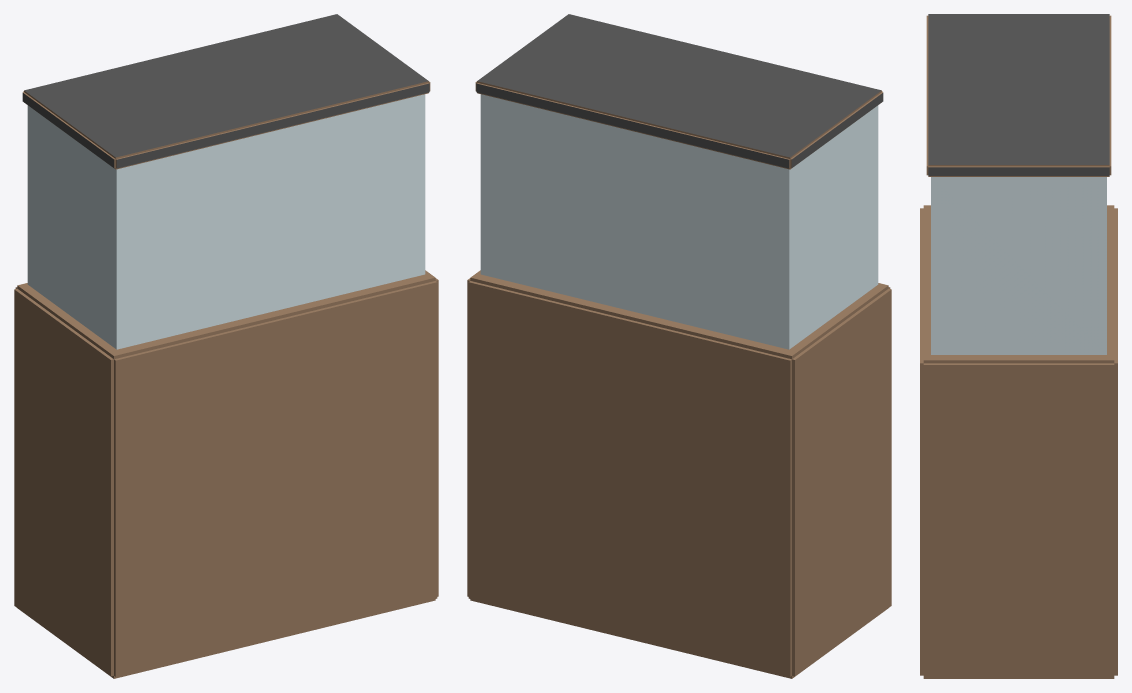
The model's file is pecera.glb.
The picture shows the model from 3 angles, left to right: view 1: azimuth 30°, elevation 25°; view 2: azimuth 150°, elevation 25°; view 3: azimuth 270°, elevation 25°; orthographic projection.
Visible parts, largest first — view 1: pecera; view 2: pecera; view 3: pecera.
Boxes of the visible parts, x1,y1,x2,y2 form: pecera: (14, 14, 438, 678); pecera: (467, 14, 891, 678); pecera: (920, 14, 1117, 678).
Size of the model in its own units: 0.85 by 1.28 by 0.45.
